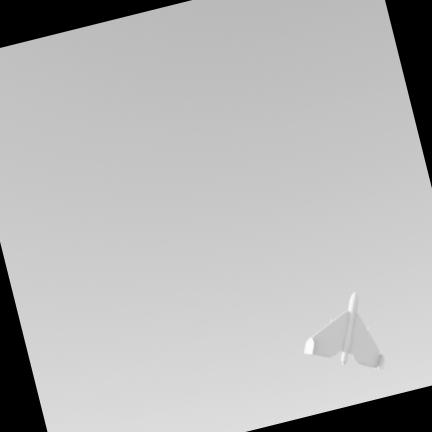Shahed: (304, 293, 383, 368)
